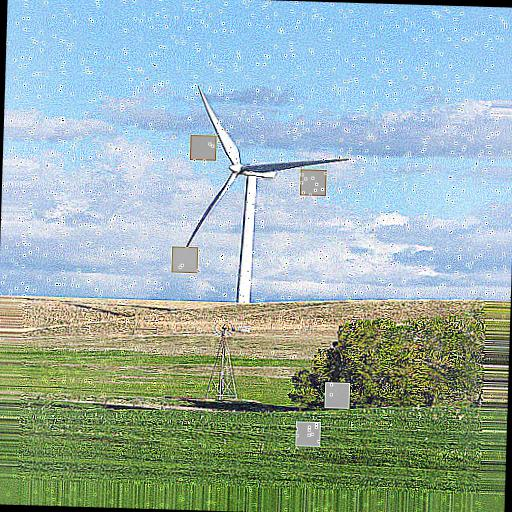wind turbine: (185, 86, 350, 304)
